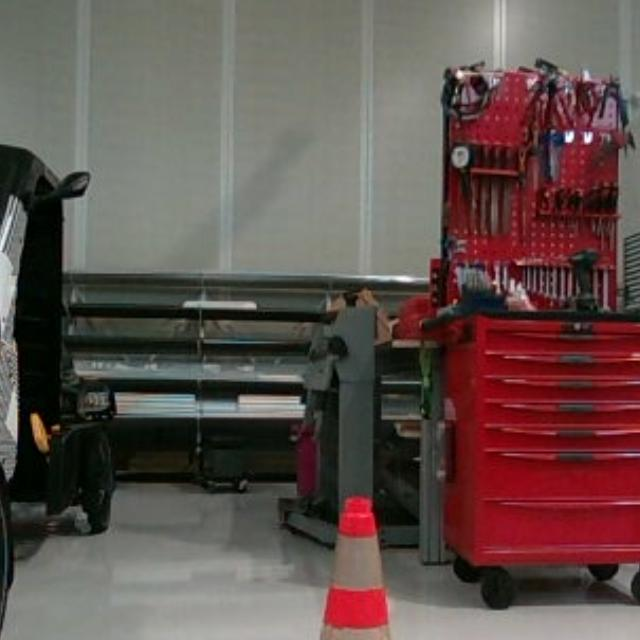Traffic-cone: (270, 493, 432, 640)
